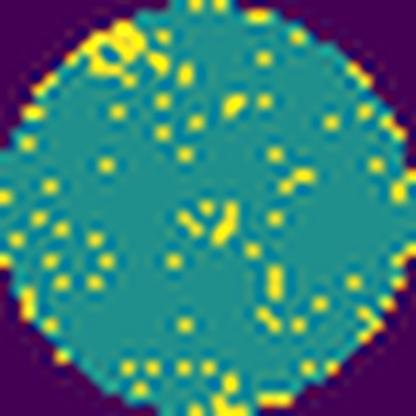Edge-Loc: (80, 19, 148, 89)
